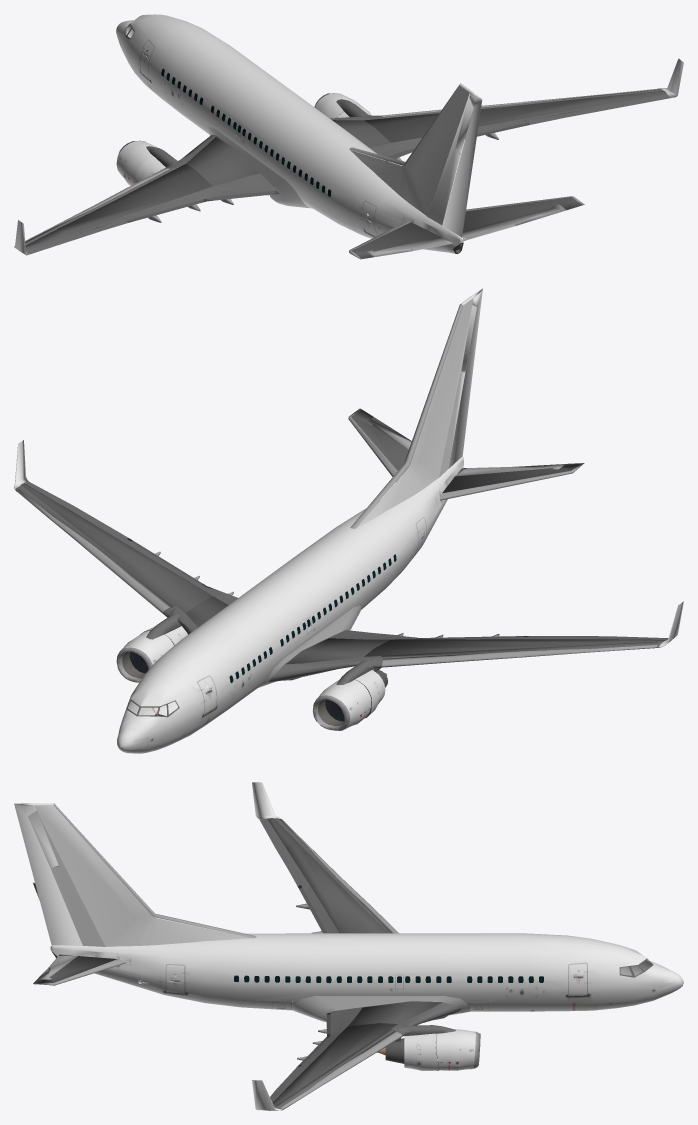
3 views of the same model, one above another, from view 1: azimuth 30°, elevation 25°; view 2: azimuth 150°, elevation 25°; view 3: azimuth 270°, elevation 25° (orthographic). The views are drawn at different scales.
Visible parts, largest first — view 1: rootNode; view 2: rootNode; view 3: rootNode.
Part boxes in pixels (box(x1,y1,x2,y2)): rootNode: box(14, 14, 683, 259); rootNode: box(14, 288, 683, 753); rootNode: box(14, 782, 683, 1110).
Bounding box in the file's own units: 34.85 × 12.04 × 33.12.
5 materials, 5 textured.
